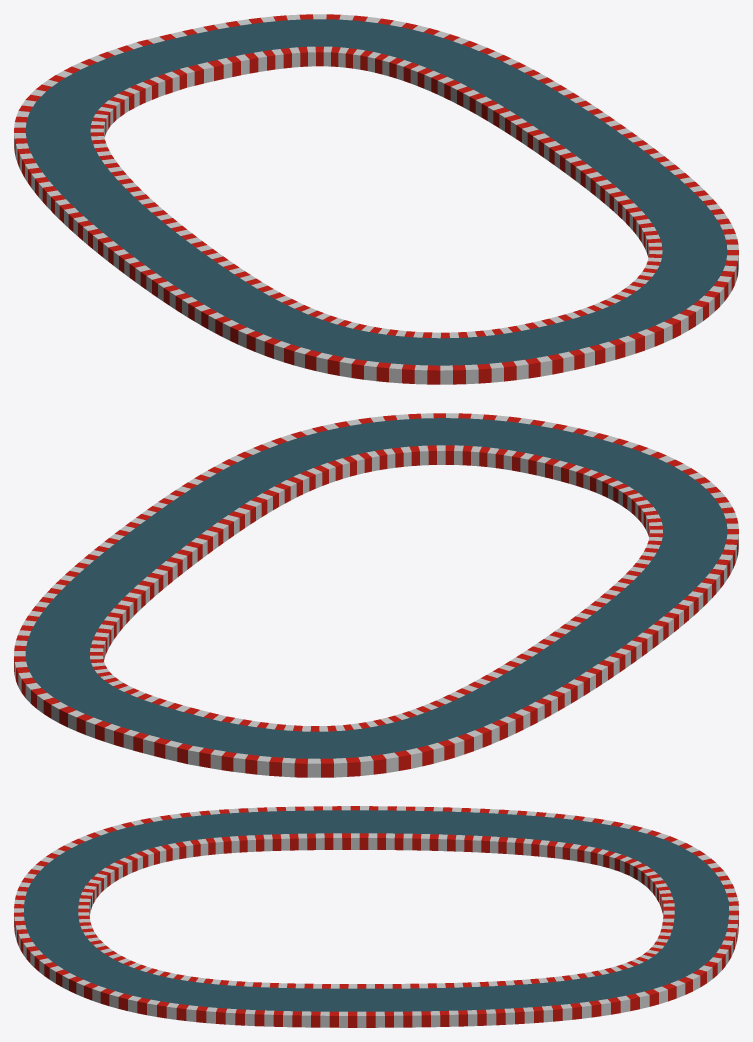
File: Track1.obj
The picture shows the model from 3 angles, top to bottom: view 1: azimuth 30°, elevation 25°; view 2: azimuth 150°, elevation 25°; view 3: azimuth 270°, elevation 25°; orthographic projection. The views are drawn at different scales.
Parts seen in each view (by area): view 1: Plane.005_Plane.003; view 2: Plane.005_Plane.003; view 3: Plane.005_Plane.003.
Boxes of the visible parts, bbox=[...] form: Plane.005_Plane.003: bbox=[14, 14, 738, 384]; Plane.005_Plane.003: bbox=[14, 413, 738, 777]; Plane.005_Plane.003: bbox=[14, 806, 738, 1027].
Size of the model in its own units: 3.15 by 0.0834 by 4.6.
